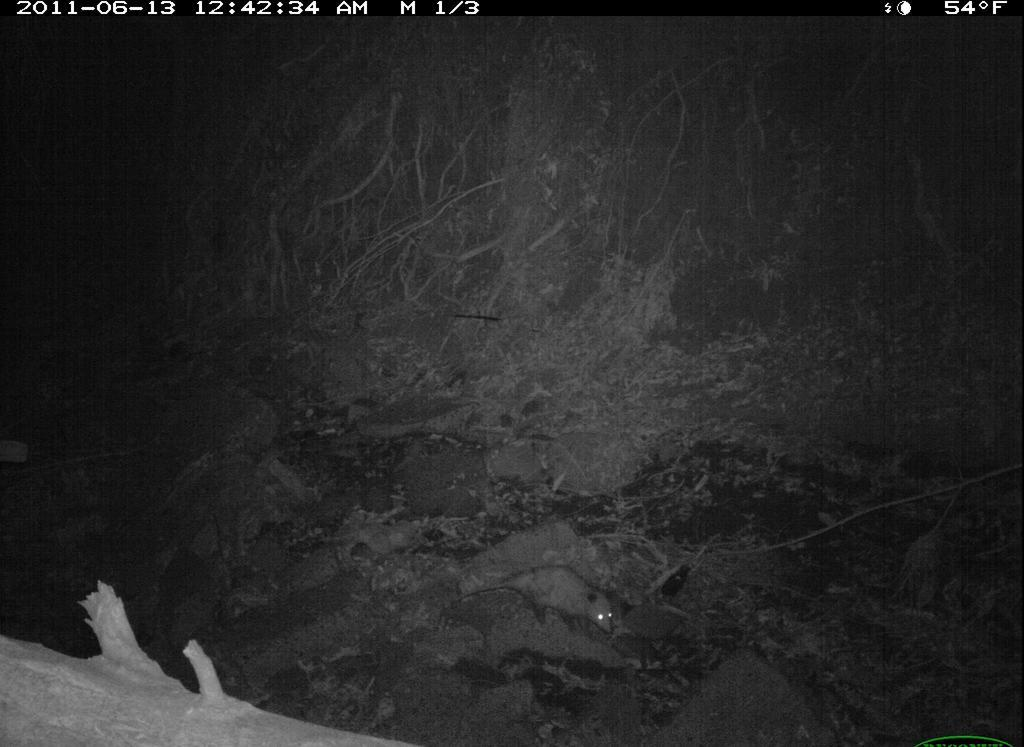opossum: (464, 564, 620, 644)
